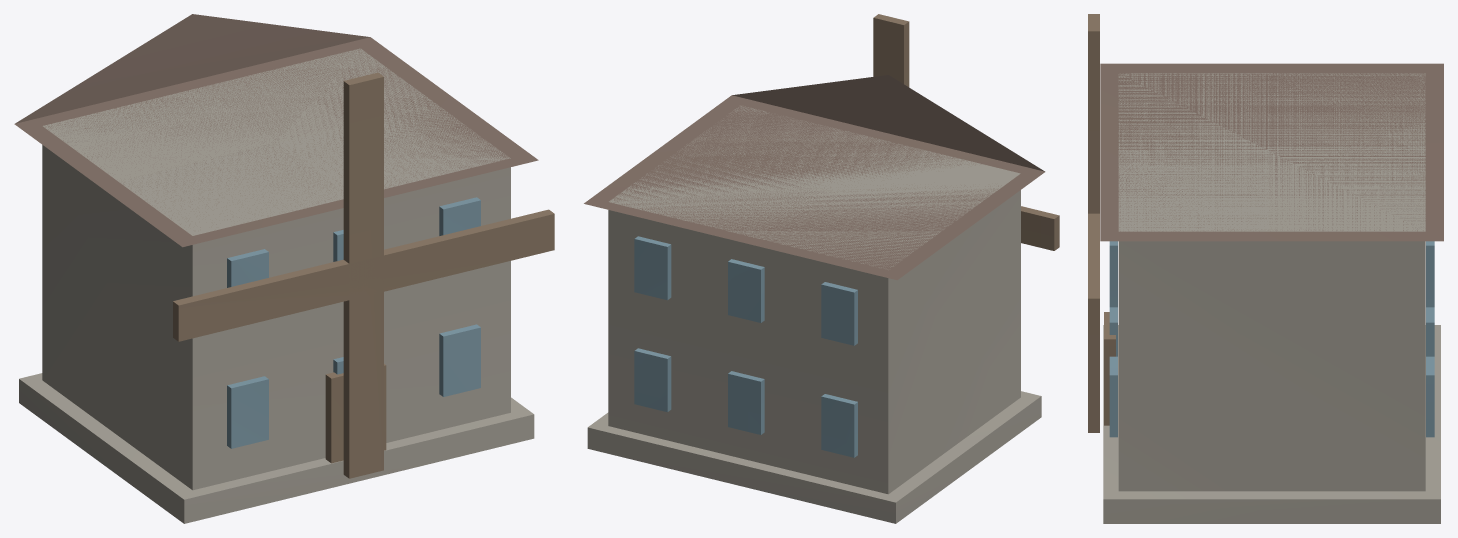
File: windmill-00.glb
The picture shows the model from 3 angles, left to right: view 1: azimuth 30°, elevation 25°; view 2: azimuth 150°, elevation 25°; view 3: azimuth 270°, elevation 25°; orthographic projection. The views are drawn at different scales.
Parts seen in each view (by area): view 1: world; view 2: world; view 3: world.
Part boxes in pixels (x1,y1,x2,y2): world: [14, 14, 554, 523]; world: [584, 14, 1059, 523]; world: [1088, 14, 1443, 523].
Bounding box in the file's own units: 1.3 × 1.34 × 1.04.
